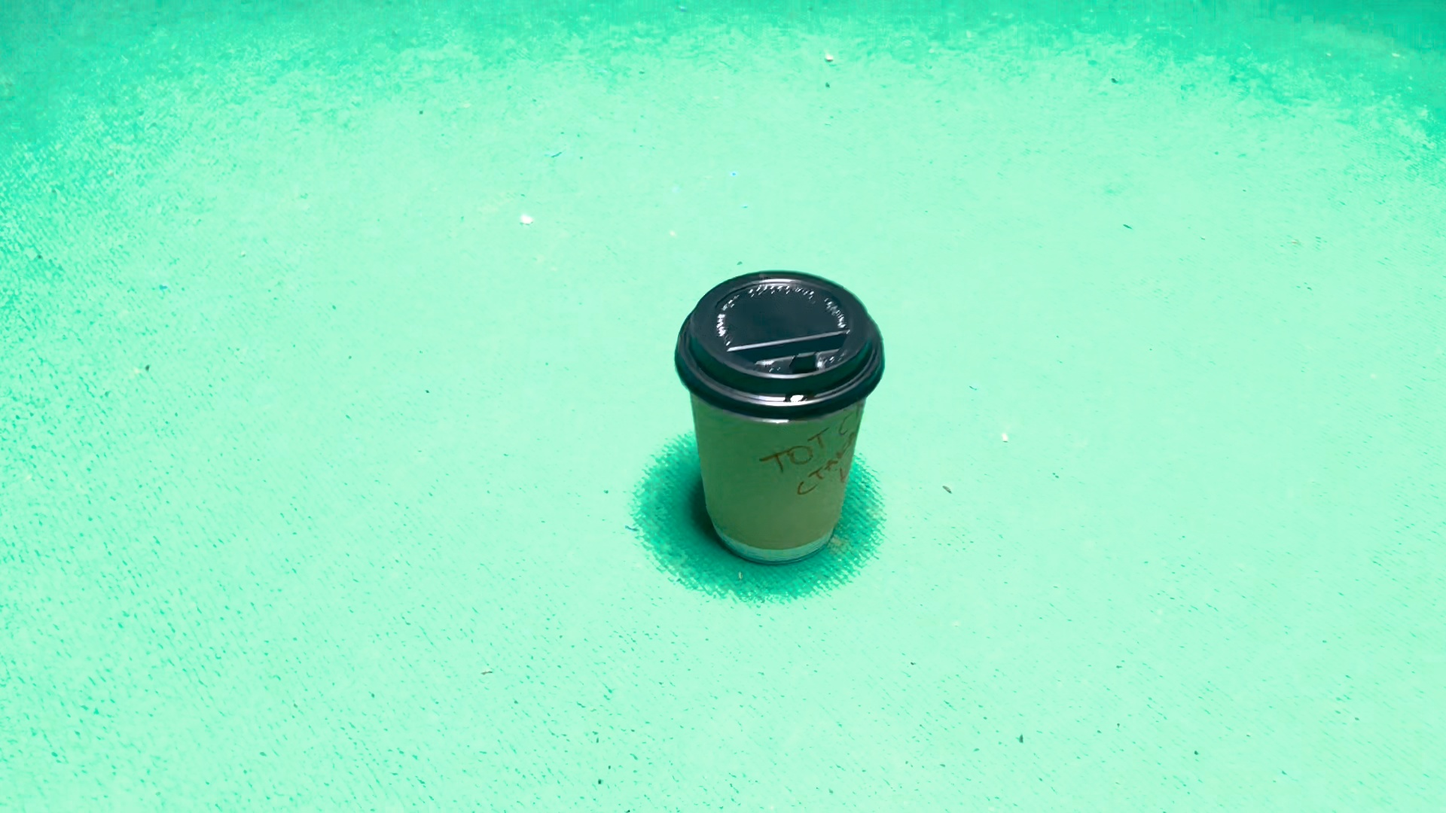cup: (734, 470, 832, 602)
